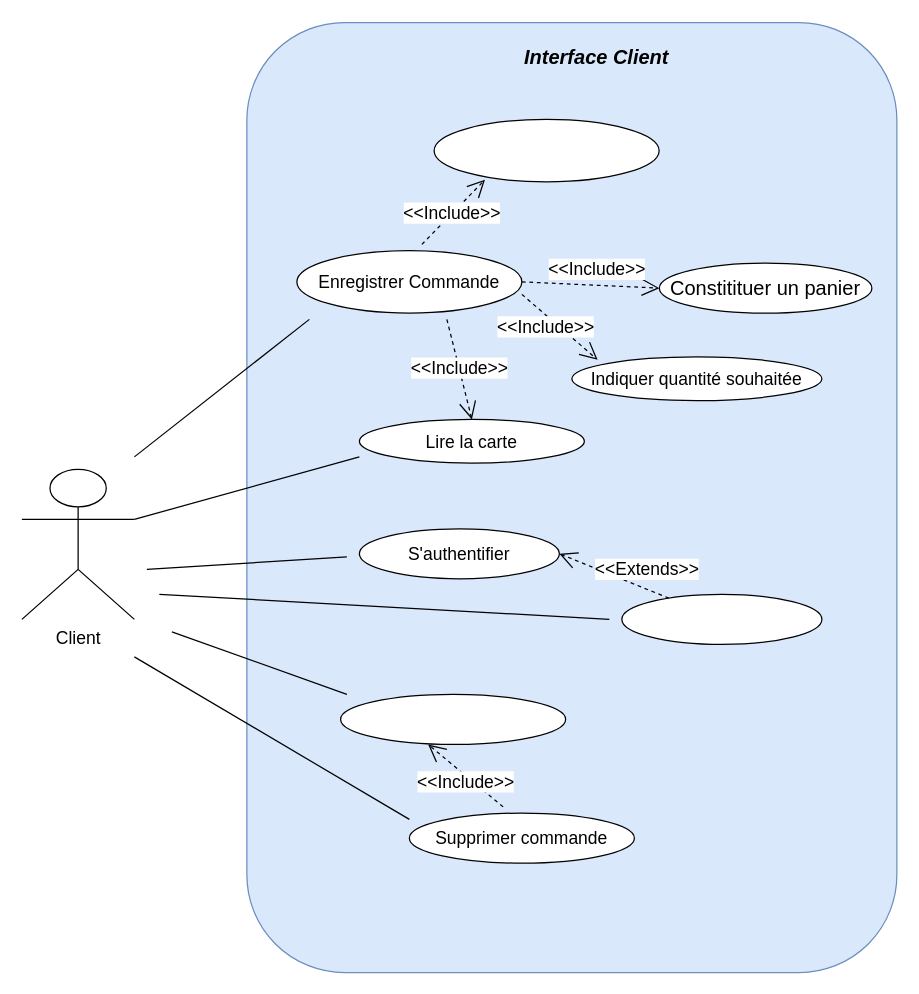
This 919x994 diagram has some shape labels left out. The shapes that lost their labels are listed below. From the top down, each one's centre as x and y in pixels, then its label:
At [546,150]: "Payer sa commande".
At [721,618]: "S'inscrire".
At [452,718]: "Modifier Commande".
